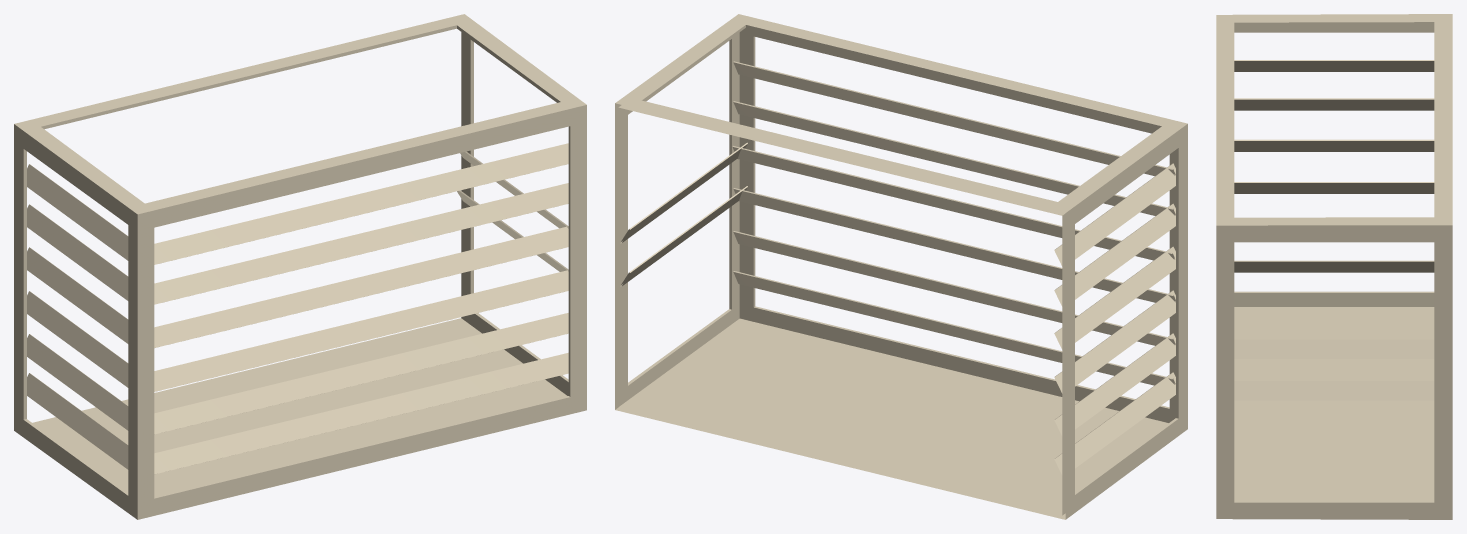
The model's file is Air_Conditioning_Shelf_A_Snaps004.FBX.
3 renders of one model, left to right at view 1: azimuth 30°, elevation 25°; view 2: azimuth 150°, elevation 25°; view 3: azimuth 270°, elevation 25°, orthographic. The views are drawn at different scales.
Visible parts, largest first — view 1: Geometry_Air_Conditioning_Shelf_A_LOD00; view 2: Geometry_Air_Conditioning_Shelf_A_LOD00; view 3: Geometry_Air_Conditioning_Shelf_A_LOD00.
Boxes of the visible parts, x1,y1,x2,y2 form: Geometry_Air_Conditioning_Shelf_A_LOD00: (14,14,586,519); Geometry_Air_Conditioning_Shelf_A_LOD00: (615,14,1187,519); Geometry_Air_Conditioning_Shelf_A_LOD00: (1216,14,1452,519).
Size of what is drawn, in the model's own units: 108 by 70.11 by 50.96.
